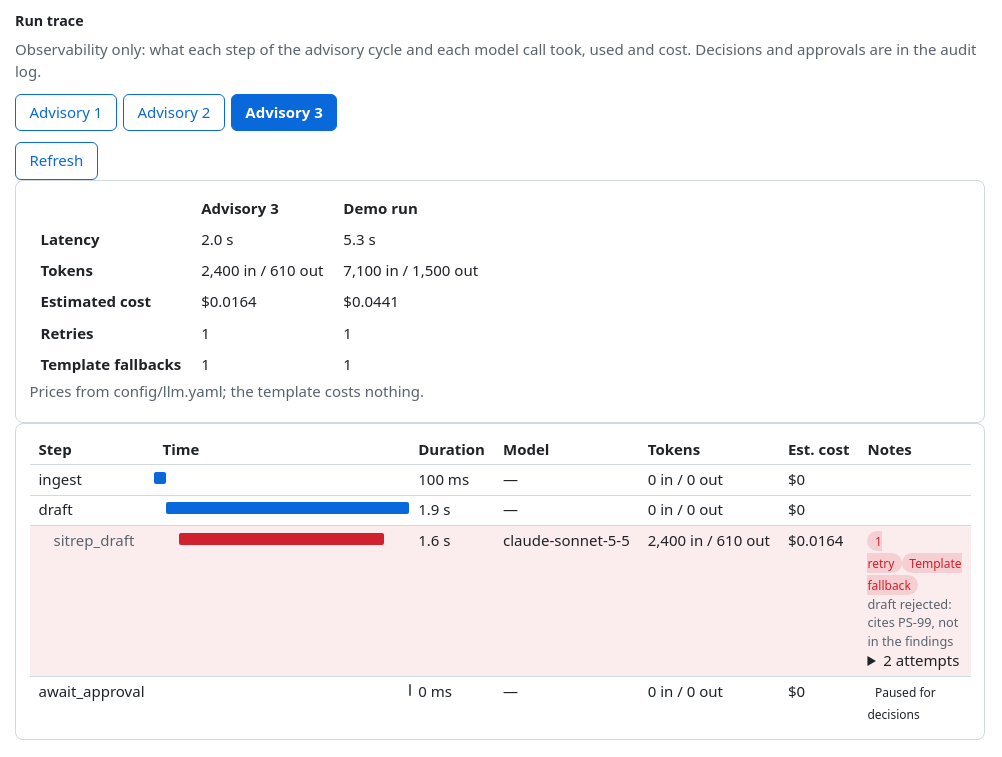
Scenario: the trace of any issued advisory can be opened
Check: the text "sitrep_draft" is shown, box [30,525,154,676]
Click the button "Advisory 1" at {"x": 66, "y": 113}, box [15,94,117,131]
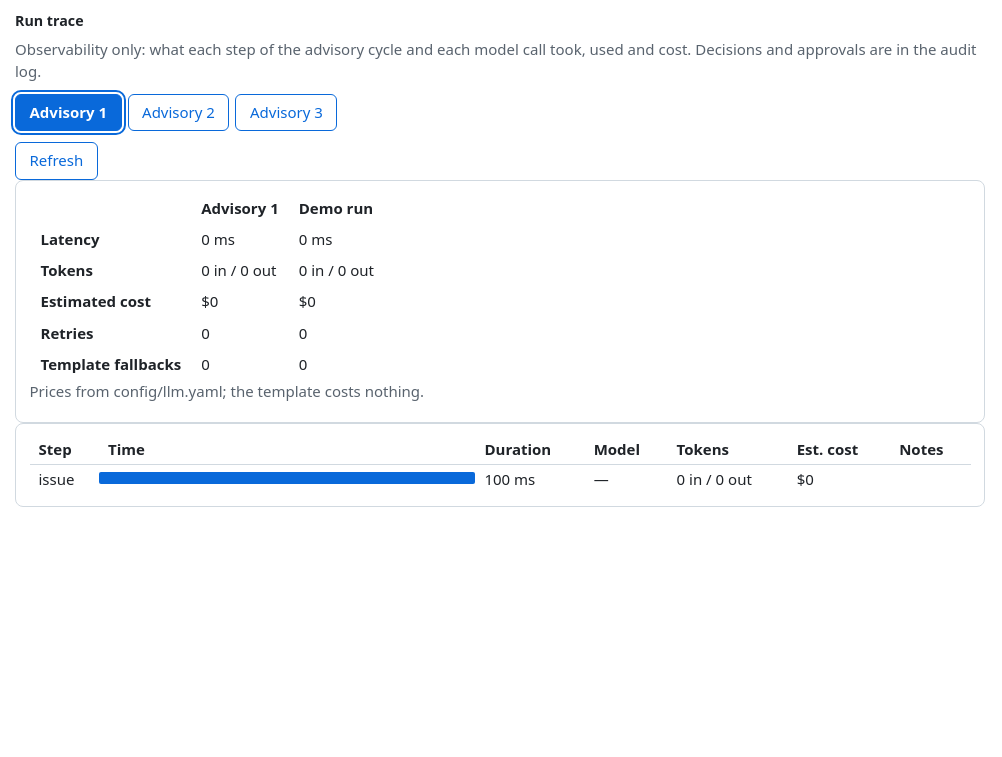
Check: the text "issue" is shown, box [30,465,99,495]
